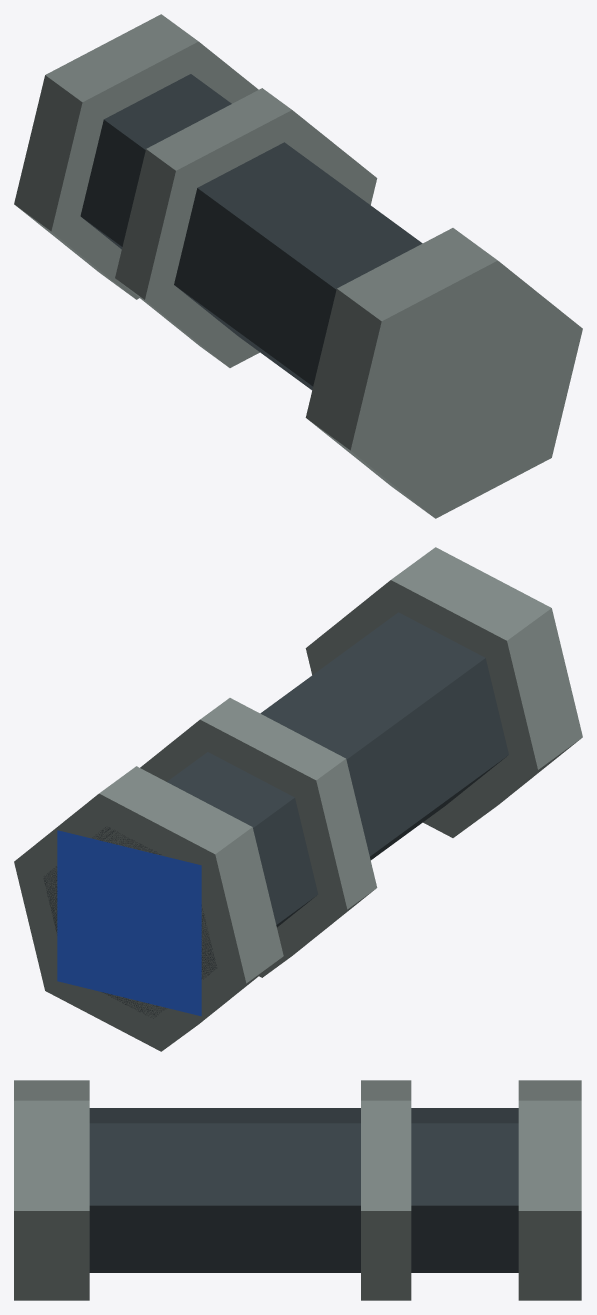
3 views of the same model, one above another, from view 1: azimuth 30°, elevation 25°; view 2: azimuth 150°, elevation 25°; view 3: azimuth 270°, elevation 25° (orthographic). The views are drawn at different scales.
Parts seen in each view (by area): view 1: mount; view 2: mount; view 3: mount.
Boxes of the visible parts, x1,y1,x2,y2 form: mount: [14, 14, 582, 518]; mount: [14, 547, 582, 1051]; mount: [14, 1080, 581, 1300].
Bounding box in the file's own units: 5.02 × 5.02 × 12.63.
